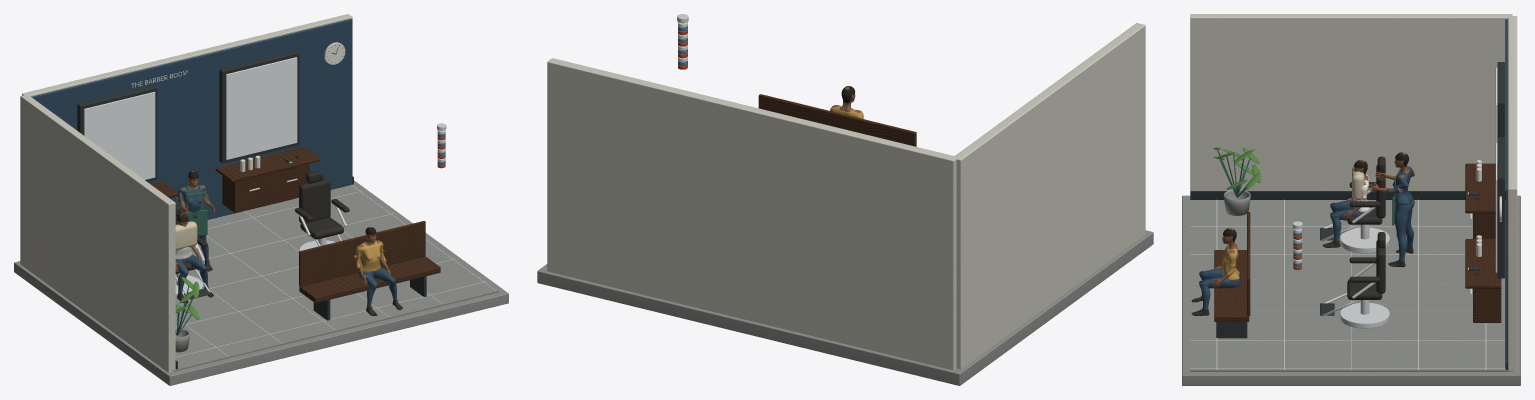
The model's file is lagos-barbershop.glb.
3 renders of one model, left to right at view 1: azimuth 30°, elevation 25°; view 2: azimuth 150°, elevation 25°; view 3: azimuth 270°, elevation 25°, orthographic. The views are drawn at different scales.
Parts seen in each view (by area): view 1: Side wall, Finished floor, Navy rear feature wall, Floor slab, Mirror glass.001, Mirror glass, Bench back, Drawer cabinet.001, Waiting bench, Rear wall, Mirror frame.001, Work counter.001 (+8 smaller); view 2: Rear wall, Side wall, Floor slab, Bench back; view 3: Side wall, Finished floor, Floor slab, Rear wall, Side skirting, Waiting bench, Work counter.001, Work counter, Mirror frame.001, Navy rear feature wall, Drawer cabinet.001, Hydraulic chair base.001 (+21 smaller).
Part boxes in pixels (x1,y1,x2,y2): Side wall: (20, 94, 175, 372); Finished floor: (172, 184, 498, 371); Navy rear feature wall: (31, 19, 352, 219); Floor slab: (14, 180, 508, 385); Mirror glass.001: (226, 57, 297, 159); Mirror glass: (84, 92, 155, 179); Bench back: (299, 221, 425, 286); Drawer cabinet.001: (222, 164, 309, 213); Waiting bench: (299, 256, 440, 302); Rear wall: (22, 14, 352, 175); Mirror frame.001: (219, 50, 299, 163); Work counter.001: (215, 147, 319, 182); Rear wall: (547, 58, 957, 370); Side wall: (954, 23, 1145, 369); Floor slab: (537, 230, 1153, 385); Bench back: (758, 94, 916, 146); Side wall: (1190, 14, 1512, 190); Finished floor: (1190, 200, 1512, 371); Floor slab: (1182, 195, 1520, 385); Rear wall: (1508, 16, 1517, 371); Side skirting: (1190, 191, 1505, 199); Waiting bench: (1214, 250, 1249, 321); Work counter.001: (1465, 239, 1500, 288); Work counter: (1465, 163, 1497, 213); Mirror frame.001: (1497, 137, 1504, 278); Navy rear feature wall: (1505, 19, 1507, 368); Drawer cabinet.001: (1473, 278, 1501, 322); Hydraulic chair base.001: (1340, 302, 1389, 328).
Size of the model in its own units: 6.34 by 3.18 by 5.04.
Materials: 20 (3 with a texture image).
